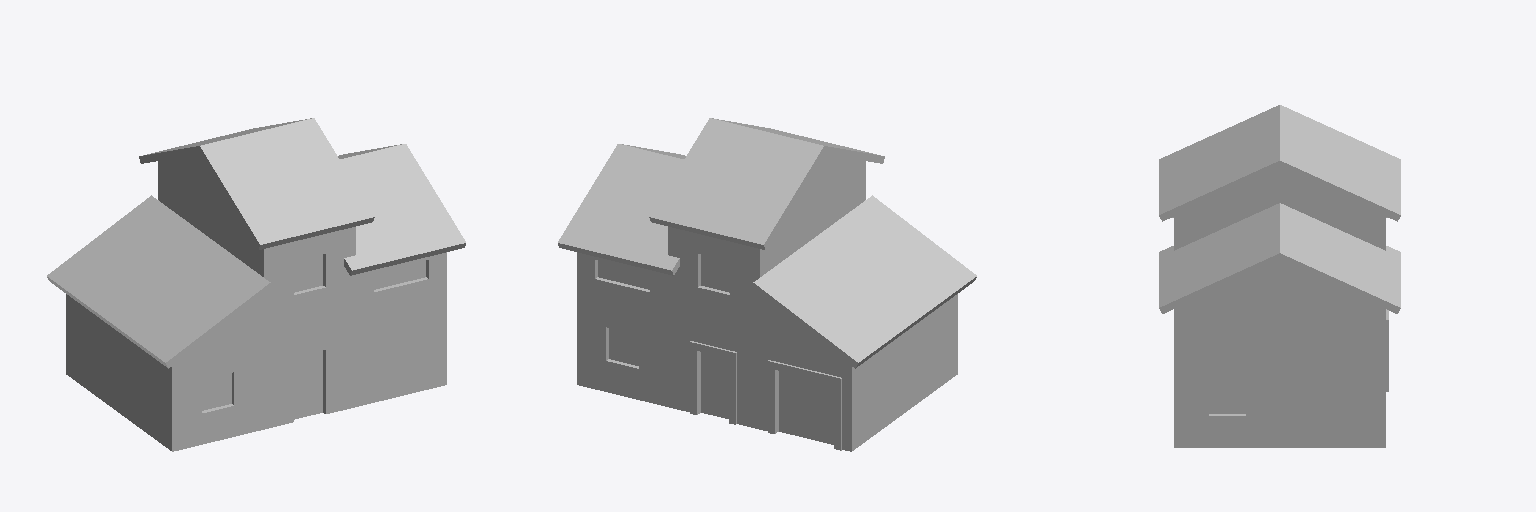
The model's file is house_type14.obj.
The picture shows the model from 3 angles: view 1: azimuth 30°, elevation 25°; view 2: azimuth 150°, elevation 25°; view 3: azimuth 270°, elevation 25°; orthographic projection.
Visible parts, largest first — view 1: house_type14; view 2: house_type14; view 3: house_type14.
Boxes of the visible parts, <box> form: house_type14: <box>47,118,465,451</box>; house_type14: <box>558,118,976,451</box>; house_type14: <box>1159,105,1400,447</box>.
Size of the model in its own units: 1.31 by 1.03 by 0.9163.